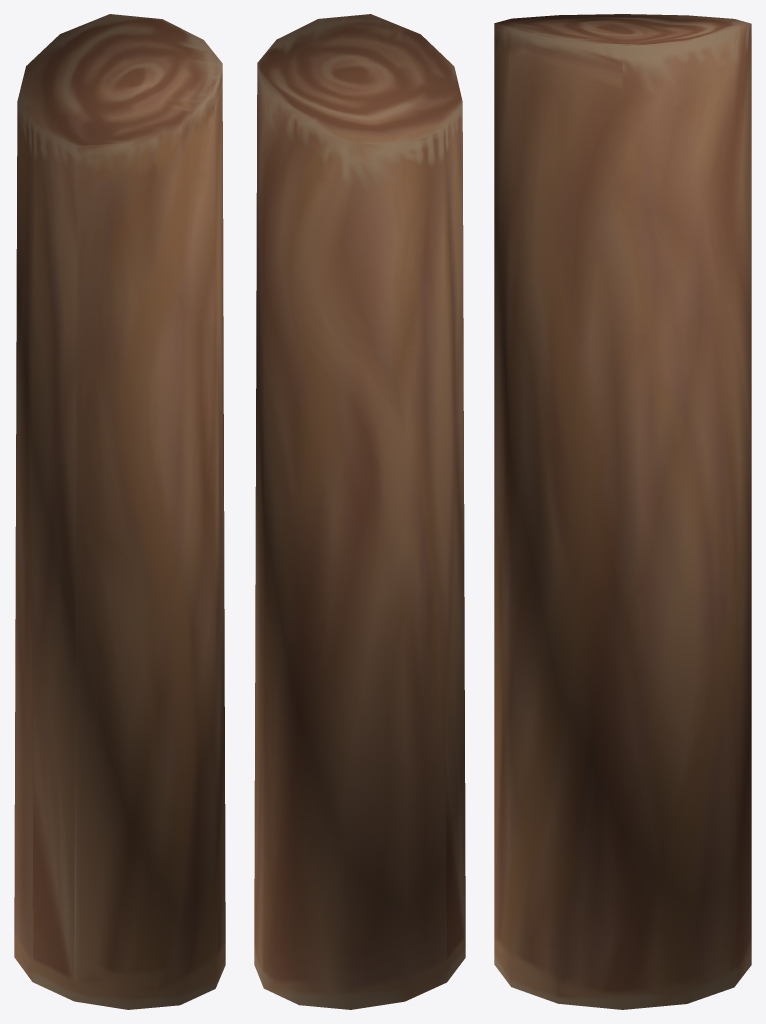
File: SM_Fence_Pole_02.fbx
The picture shows the model from 3 angles, left to right: view 1: azimuth 30°, elevation 25°; view 2: azimuth 150°, elevation 25°; view 3: azimuth 270°, elevation 25°; orthographic projection. The views are drawn at different scales.
Visible parts, largest first — view 1: pole 2; view 2: pole 2; view 3: pole 2.
Boxes of the visible parts, x1=… form: pole 2: x1=14, y1=14, x2=225, y2=1009; pole 2: x1=254, y1=14, x2=465, y2=1009; pole 2: x1=494, y1=14, x2=751, y2=1009.
Bounding box in the file's own units: 29.57 × 146 × 35.46.
Materials: 1 (1 with a texture image).
